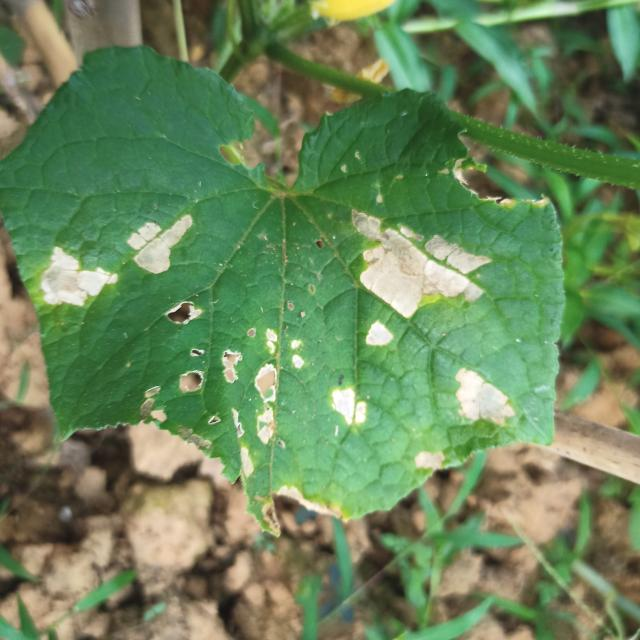disease_cucumber: (339, 204, 493, 356), (250, 321, 309, 446), (35, 243, 118, 314), (124, 204, 198, 280), (446, 366, 524, 428), (176, 342, 242, 404), (330, 376, 370, 440), (397, 444, 452, 482), (162, 296, 200, 332)
